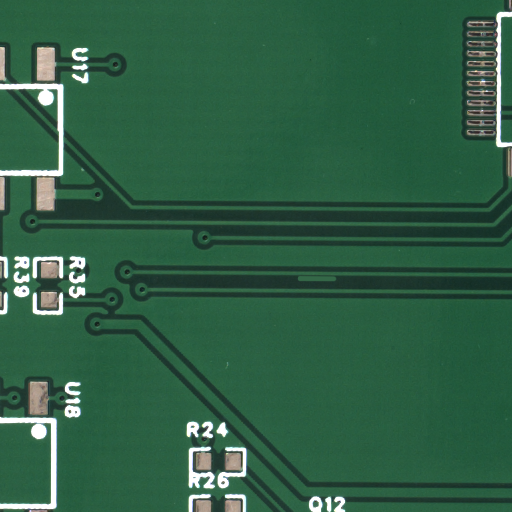Spurious_copper: (316, 278, 361, 285)
